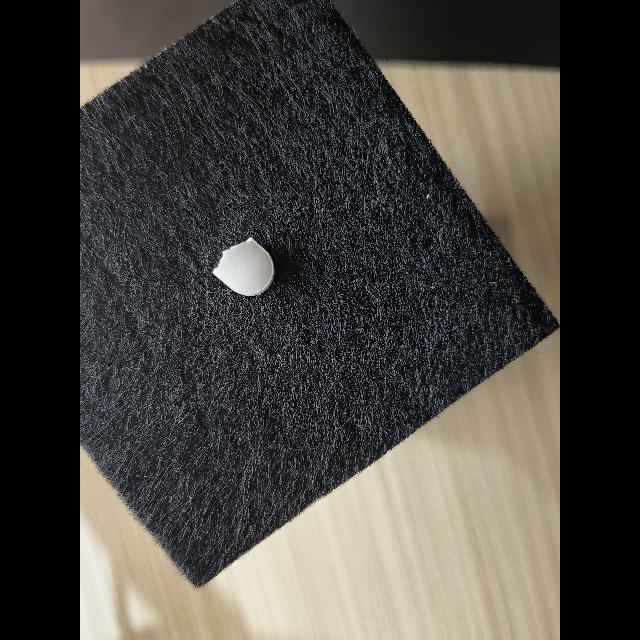Chipped Pill: (213, 237, 275, 296)
